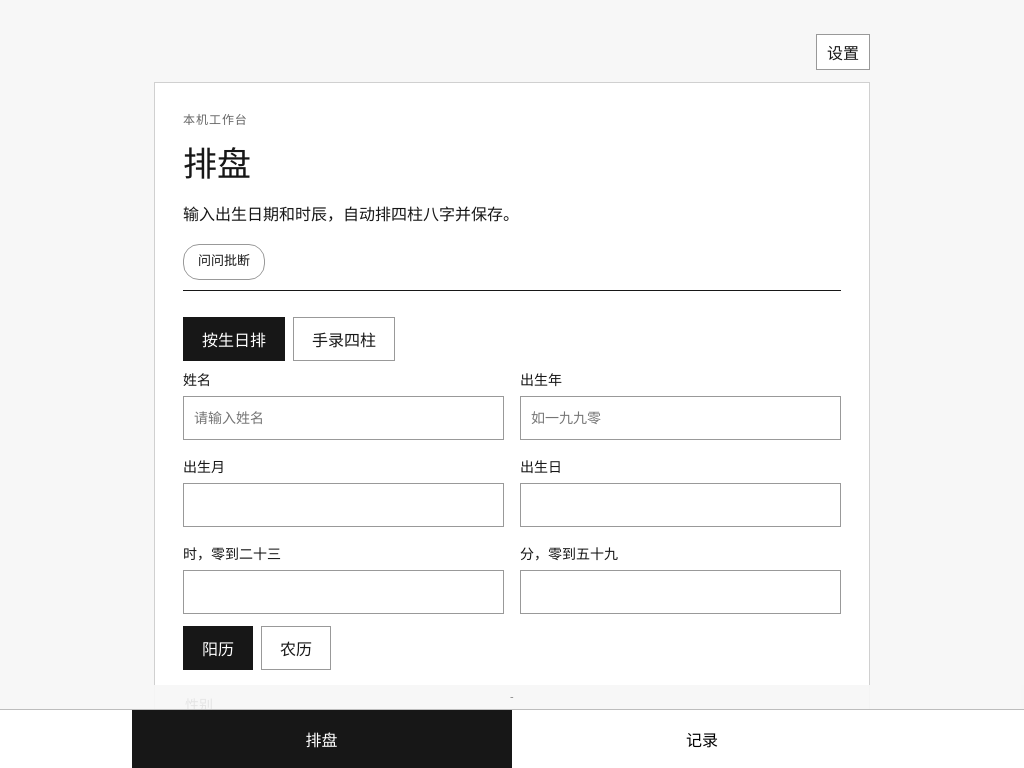
Test: 界面正文纯中文(整树穷举) › 记录页 / 人物详情页：同样穷举
What coordinates should you click on to do the following:
click the button with class "nav-item" showing "记录"
I would click on:
 (702, 739)
Its box is x1=512 y1=710 x2=892 y2=767.
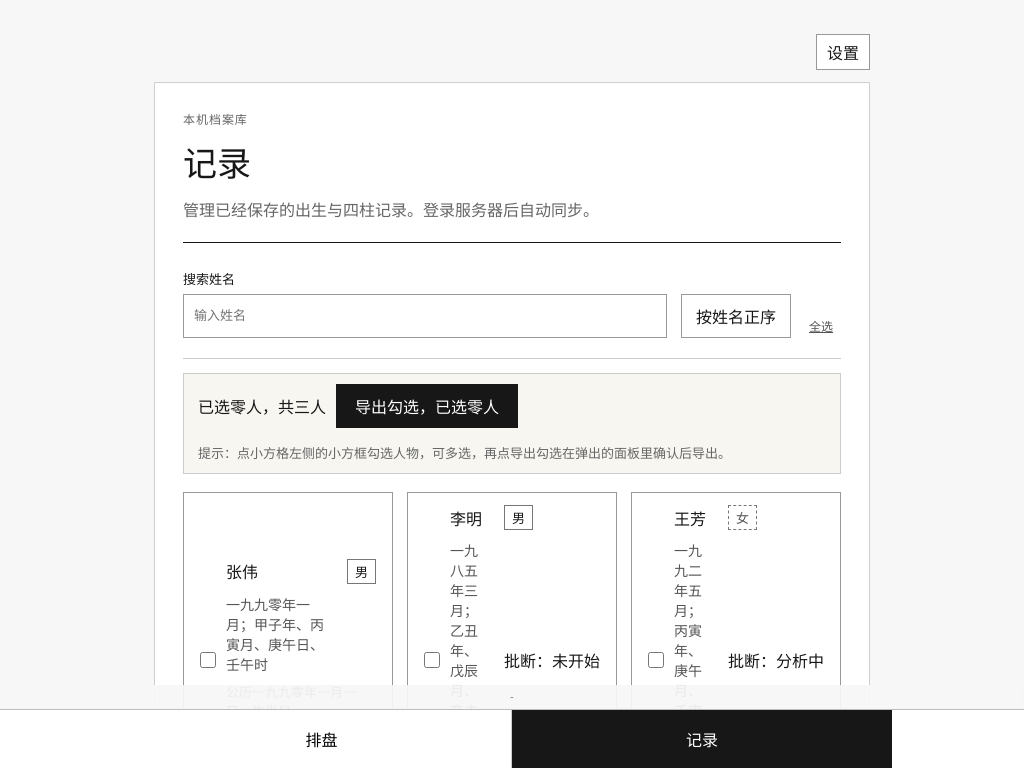
Now the button that starts with "一九九零" is shown
What coordinates should you click on to do the following:
click the button that starts with "一九九零"
I would click on:
 (301, 657)
Its box is x1=226 y1=559 x2=376 y2=756.
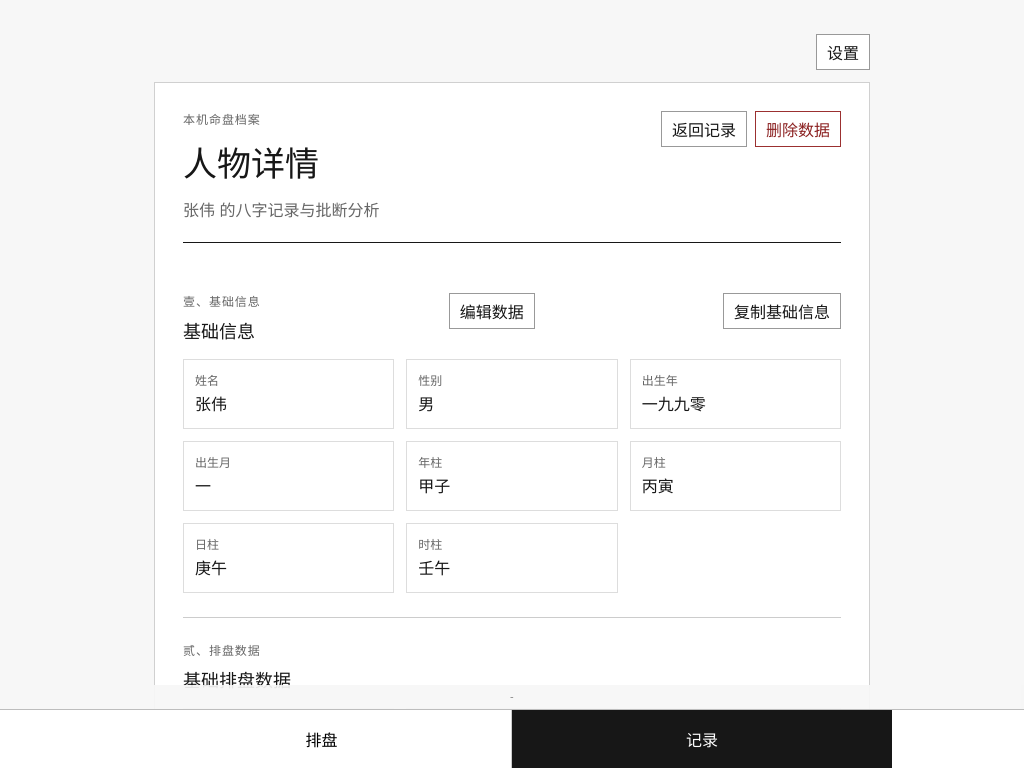
Now the heading "人物详情" is shown, box x1=183 y1=145 x2=319 y2=183
